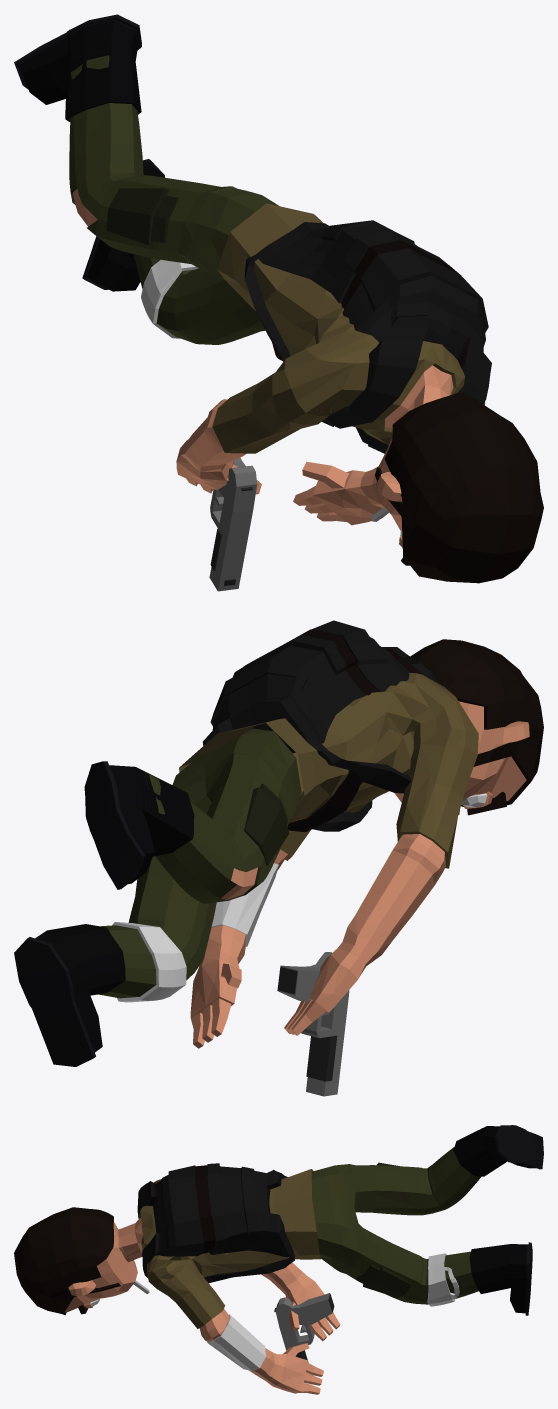
File: frame_0060.obj
3 renders of one model, top to bottom at view 1: azimuth 30°, elevation 25°; view 2: azimuth 150°, elevation 25°; view 3: azimuth 270°, elevation 25°, orthographic. The views are drawn at different scales.
Parts seen in each view (by area): view 1: Body, Gun; view 2: Body, Gun; view 3: Body, Gun.
Boxes of the visible parts, x1=… form: Body: x1=14, y1=14, x2=543, y2=583; Gun: x1=209, y1=457, x2=257, y2=591; Body: x1=14, y1=620, x2=543, y2=1066; Gun: x1=277, y1=952, x2=349, y2=1096; Body: x1=14, y1=1125, x2=543, y2=1394; Gun: x1=274, y1=1293, x2=334, y2=1362.
Size of the model in its own units: 1.29 by 2.31 by 4.1.
